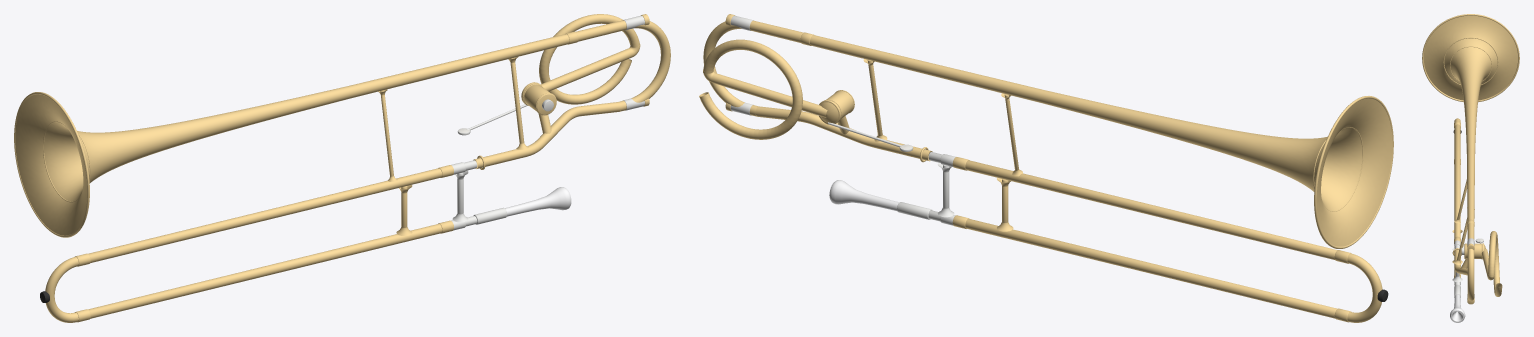
Rendered from tromboneF.glb.
3 views of the same model, side by side, from view 1: azimuth 30°, elevation 25°; view 2: azimuth 150°, elevation 25°; view 3: azimuth 270°, elevation 25° (orthographic). The views are drawn at different scales.
Parts seen in each view (by area): view 1: Body, slide, slideTip; view 2: Body, slide, slideTip; view 3: Body, slide.
Boxes of the visible parts, x1=… form: Body: x1=14, y1=14, x2=670, y2=237; slide: x1=40, y1=165, x2=453, y2=322; slideTip: x1=45, y1=257, x2=78, y2=322; Body: x1=699, y1=14, x2=1393, y2=248; slide: x1=952, y1=157, x2=1388, y2=322; slideTip: x1=1347, y1=253, x2=1382, y2=322; Body: x1=1422, y1=14, x2=1519, y2=322; slide: x1=1452, y1=120, x2=1462, y2=277.
Bounding box in the file's own units: 1.08 × 0.3667 × 0.2187.
